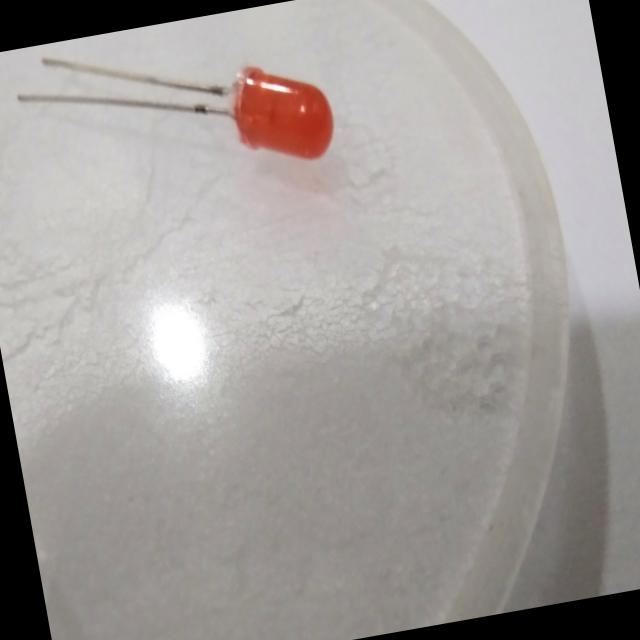red_led: (216, 36, 346, 185)
